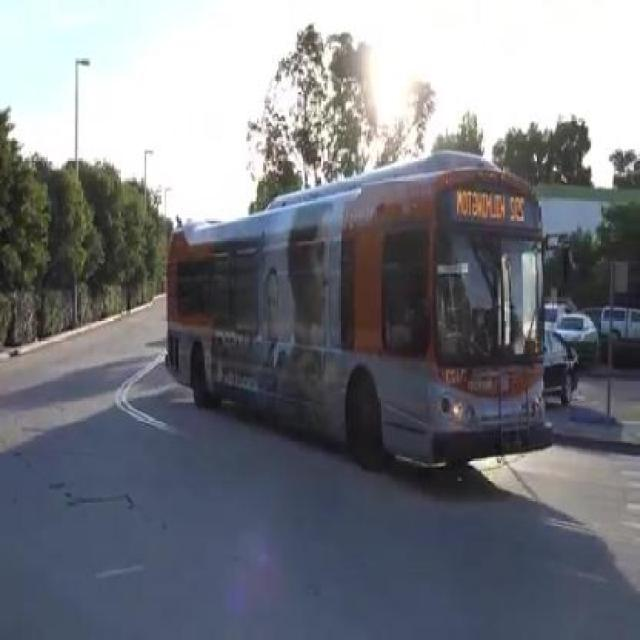bus: (164, 151, 548, 475)
